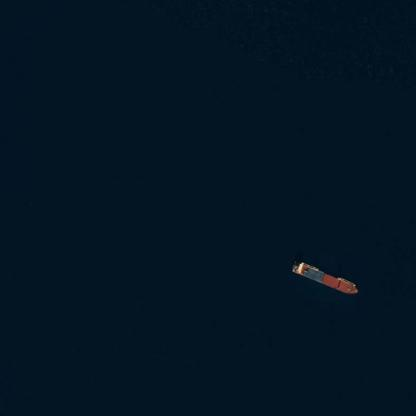ship: (288, 258, 360, 297)
